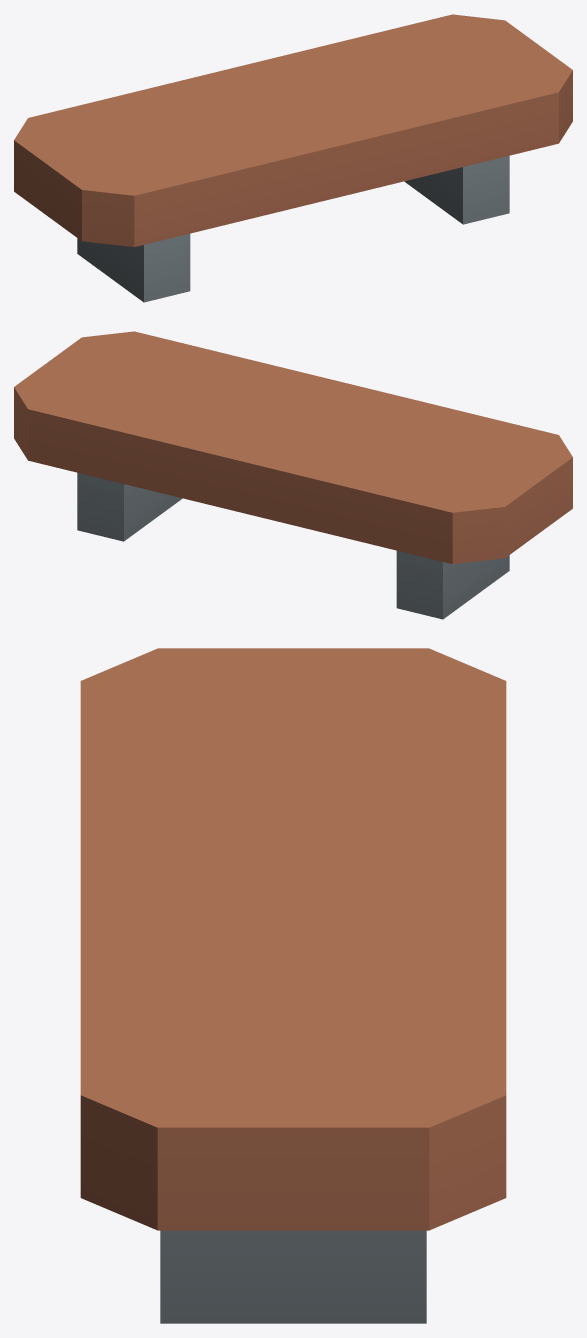
Rendered from kyc_bench.fbx.
3 views of the same model, one above another, from view 1: azimuth 30°, elevation 25°; view 2: azimuth 150°, elevation 25°; view 3: azimuth 270°, elevation 25° (orthographic). The views are drawn at different scales.
Parts seen in each view (by area): view 1: kyc_bench; view 2: kyc_bench; view 3: kyc_bench.
Part boxes in pixels (x1=…): kyc_bench: x1=14, y1=14, x2=572, y2=302; kyc_bench: x1=14, y1=331, x2=572, y2=619; kyc_bench: x1=80, y1=648, x2=506, y2=1323.
Size of the model in its own units: 3.6 by 0.9 by 1.35.
